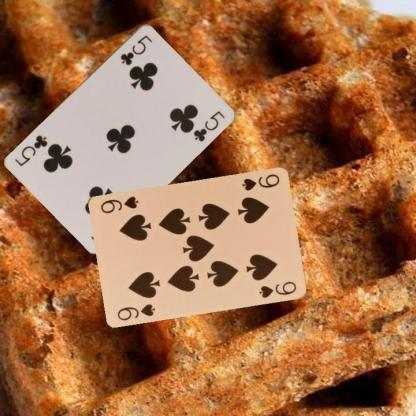5c: (118, 31, 154, 66)
9s: (115, 300, 157, 322), (240, 171, 282, 192)
